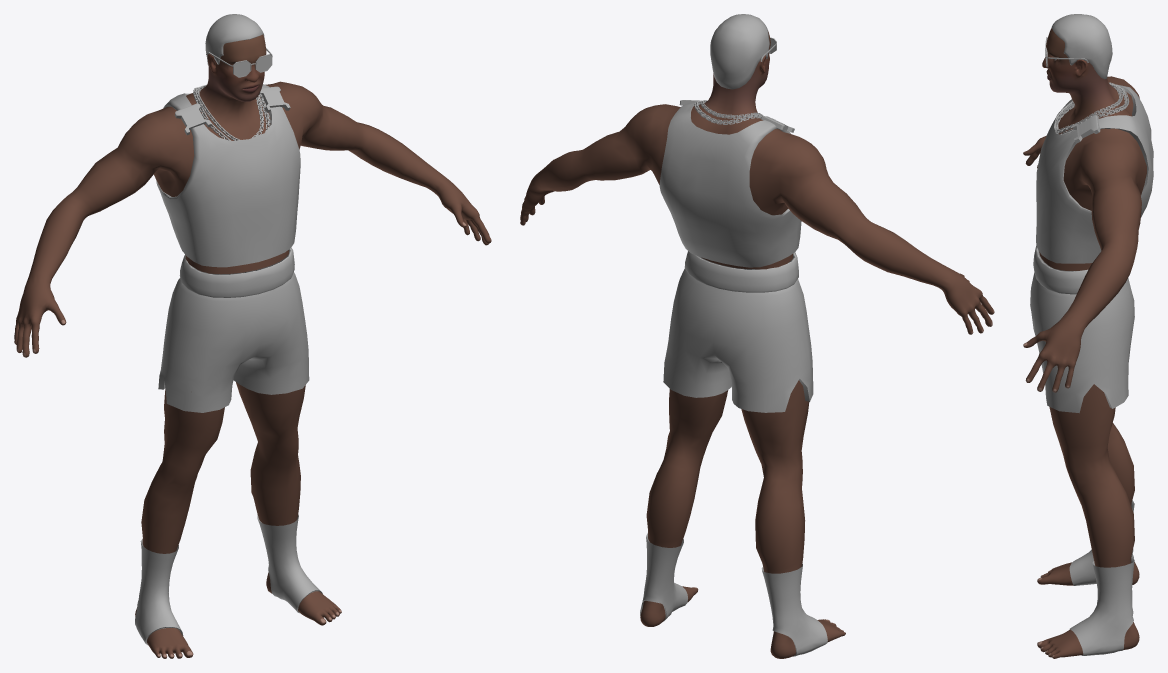
The model's file is Character_Chamaco_low.fbx.
3 renders of one model, left to right at view 1: azimuth 30°, elevation 25°; view 2: azimuth 150°, elevation 25°; view 3: azimuth 270°, elevation 25°, orthographic.
Visible parts, largest first — view 1: body_low, pantalon_low, chaleco_low, telas_pies_low, pelo_low, broche_chaleco_low; view 2: body_low, pantalon_low, chaleco_low, telas_pies_low, pelo_low; view 3: body_low, pantalon_low, chaleco_low, telas_pies_low, pelo_low, cadena_low, broche_chaleco_low, cadena2_low.
Boxes of the visible parts, x1,y1,x2,y2 form: body_low: (14, 34, 491, 658); pantalon_low: (158, 247, 309, 412); chaleco_low: (156, 84, 300, 267); telas_pies_low: (135, 514, 322, 645); pelo_low: (205, 14, 264, 65); broche_chaleco_low: (174, 86, 290, 135); body_low: (520, 31, 994, 658); pantalon_low: (663, 251, 813, 412); chaleco_low: (659, 103, 801, 267); telas_pies_low: (640, 533, 827, 656); pelo_low: (710, 14, 769, 89); body_low: (1023, 28, 1146, 658); pantalon_low: (1030, 245, 1134, 413); chaleco_low: (1036, 84, 1153, 263); telas_pies_low: (1069, 500, 1134, 655); pelo_low: (1051, 14, 1112, 79); cadena_low: (1055, 83, 1122, 133); broche_chaleco_low: (1072, 114, 1100, 143); cadena2_low: (1058, 82, 1129, 134).
Size of the model in its own units: 144 by 180 by 35.56.
